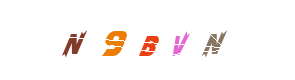9: (88, 0, 168, 80)
B: (107, 0, 187, 80)
N: (34, 0, 114, 80), (155, 0, 235, 80)
V: (122, 0, 202, 80)
